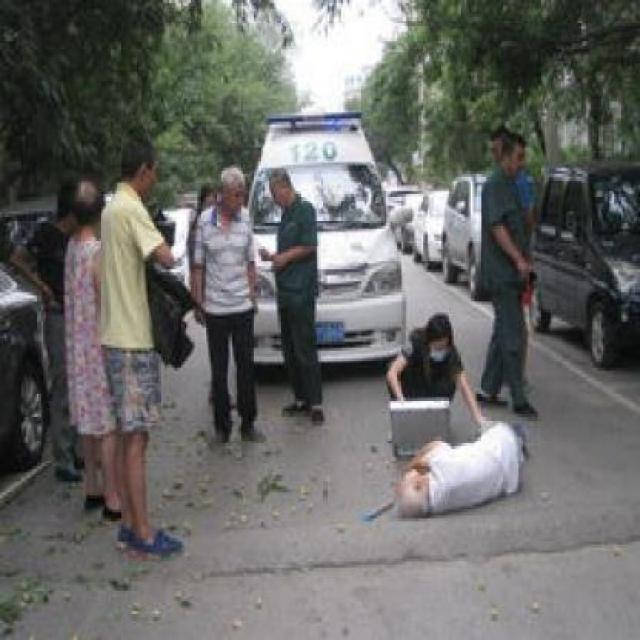fall: (388, 397, 532, 521)
